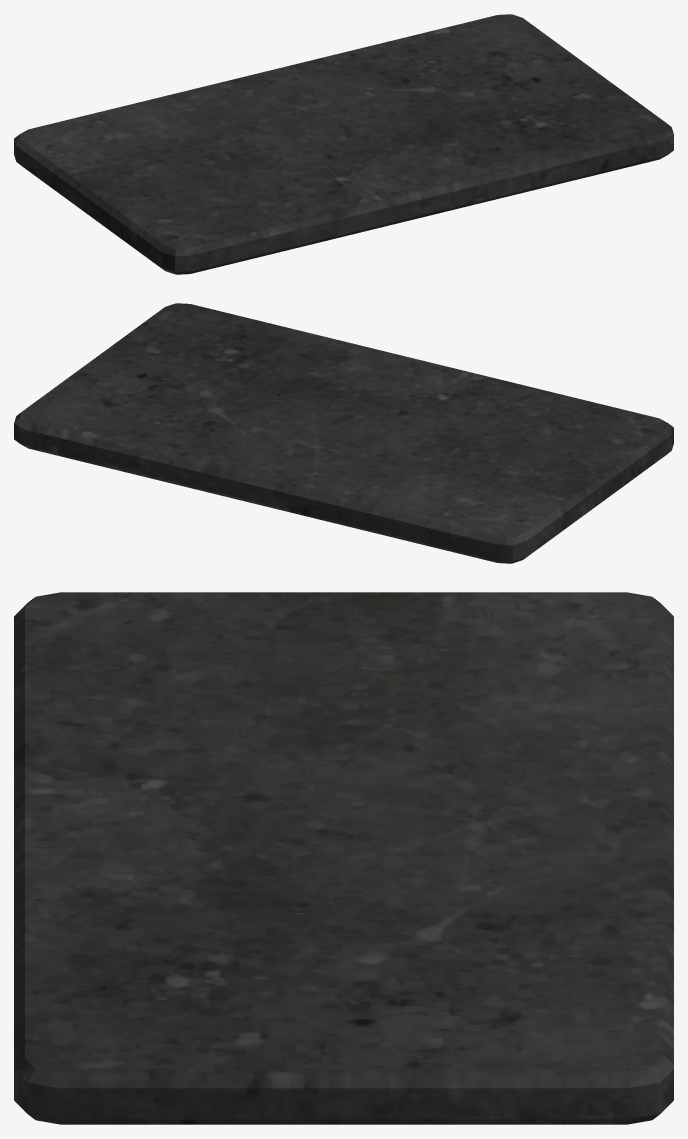
The model's file is _ase.fbx.
3 renders of one model, top to bottom at view 1: azimuth 30°, elevation 25°; view 2: azimuth 150°, elevation 25°; view 3: azimuth 270°, elevation 25°, orthographic. The views are drawn at different scales.
Parts seen in each view (by area): view 1: polySurface1160; view 2: polySurface1160; view 3: polySurface1160.
Boxes of the visible parts, left/top/right/bottom form: polySurface1160: left=14, top=14, right=673, bottom=274; polySurface1160: left=14, top=303, right=673, bottom=563; polySurface1160: left=14, top=592, right=673, bottom=1124.
Bounding box in the file's own units: 40.74 × 1.98 × 23.16.
Materials: 1 (1 with a texture image).
